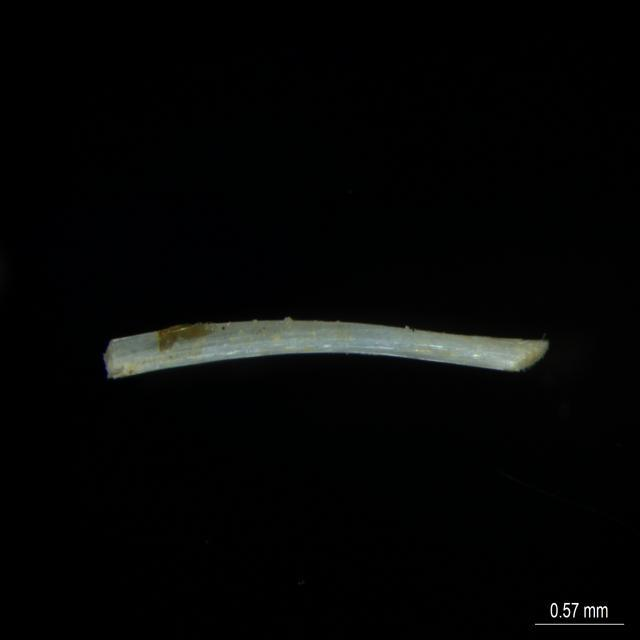fibers: (103, 313, 550, 378)
